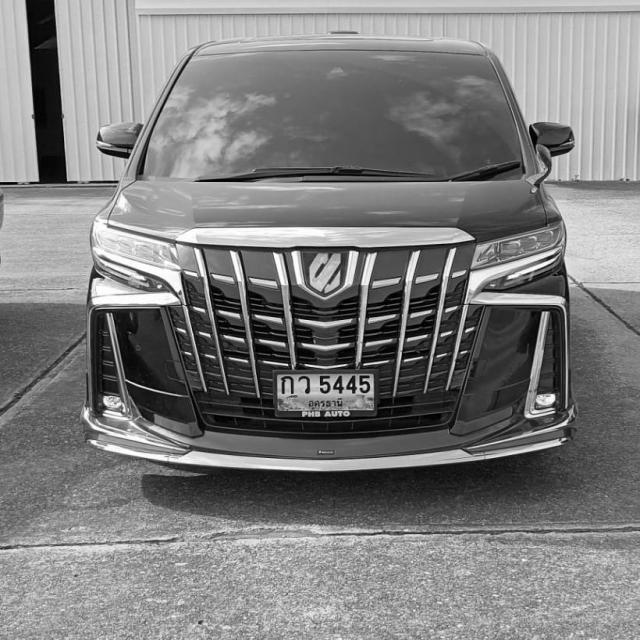license_plate: (277, 374, 375, 410)
